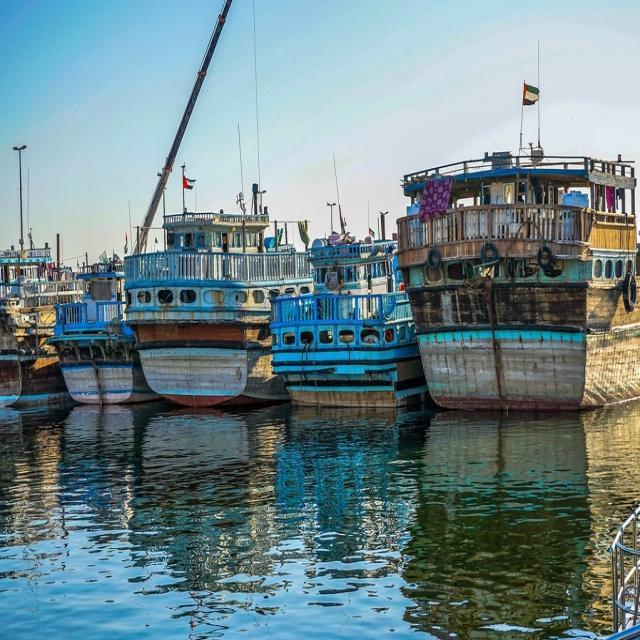boat: (390, 166, 640, 420), (260, 219, 426, 410)
